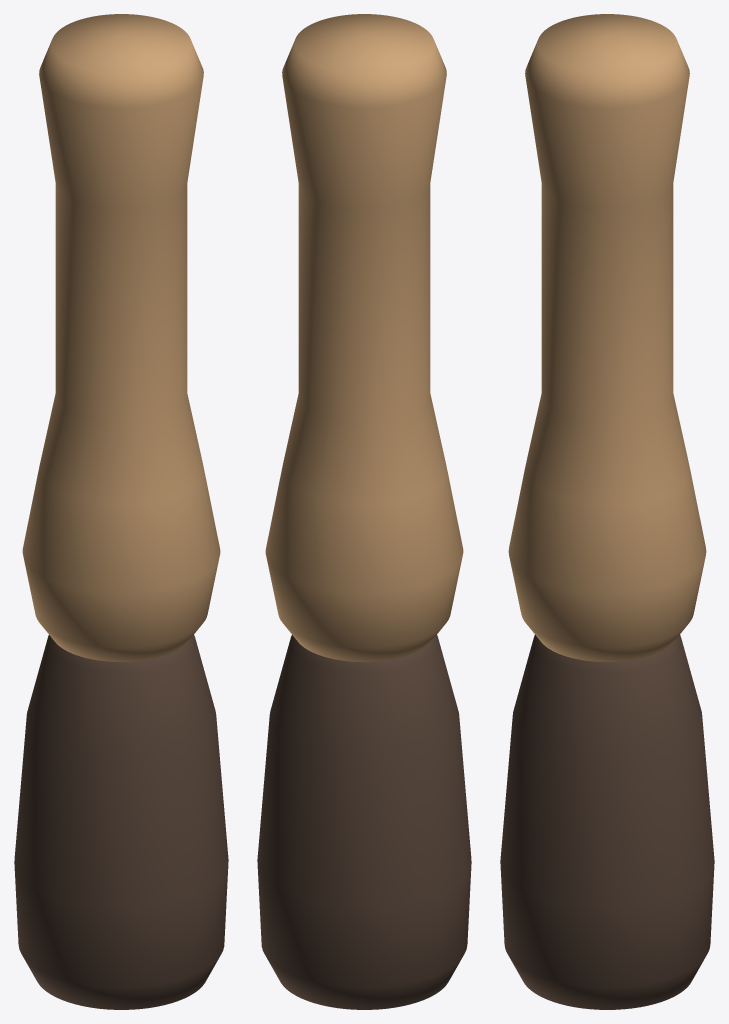
Rendered from CoffeeGrinderPestle_255mm.fbx.
3 renders of one model, left to right at view 1: azimuth 30°, elevation 25°; view 2: azimuth 150°, elevation 25°; view 3: azimuth 270°, elevation 25°, orthographic.
Visible parts, largest first — view 1: CoffeeGrinderPestle_WoodHandle, CoffeeGrinderPestle_StoneEnd; view 2: CoffeeGrinderPestle_WoodHandle, CoffeeGrinderPestle_StoneEnd; view 3: CoffeeGrinderPestle_WoodHandle, CoffeeGrinderPestle_StoneEnd.
Boxes of the visible parts, box(x1,y1,x2,y2) form: CoffeeGrinderPestle_WoodHandle: box(22, 14, 220, 662); CoffeeGrinderPestle_StoneEnd: box(14, 635, 228, 1009); CoffeeGrinderPestle_WoodHandle: box(265, 14, 463, 662); CoffeeGrinderPestle_StoneEnd: box(257, 635, 471, 1009); CoffeeGrinderPestle_WoodHandle: box(508, 14, 706, 662); CoffeeGrinderPestle_StoneEnd: box(500, 635, 714, 1009).
Bounding box in the file's own units: 0.052 × 0.255 × 0.052.
